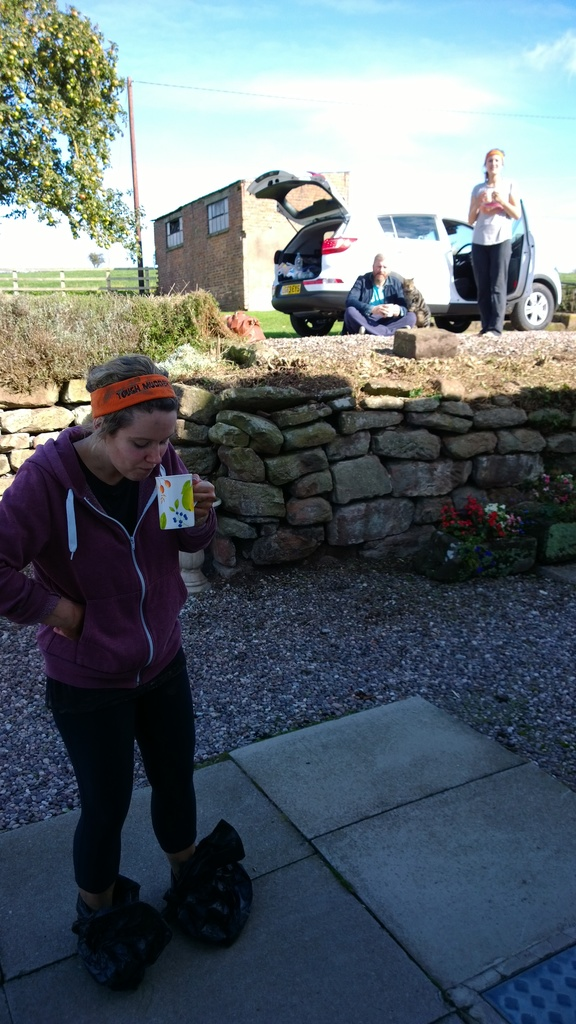cars: (206, 173, 536, 330)
